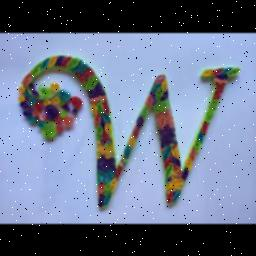w: (83, 48, 255, 216)
